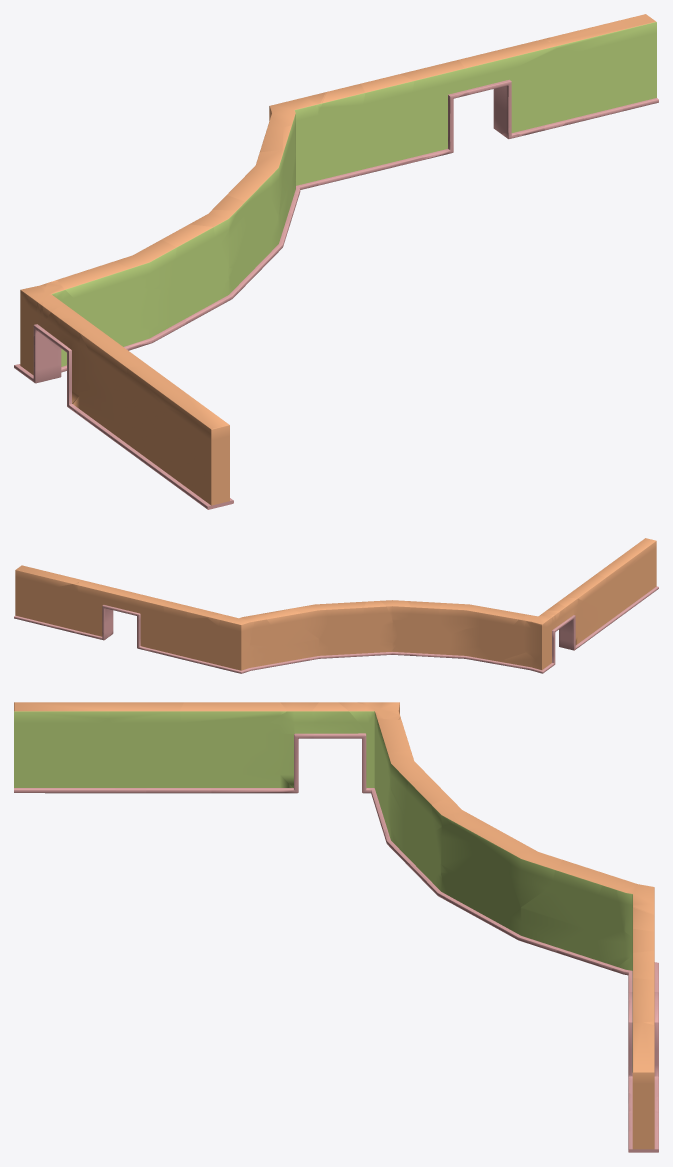
The model's file is InnerWall_3_Fractured.fbx.
3 renders of one model, top to bottom at view 1: azimuth 30°, elevation 25°; view 2: azimuth 150°, elevation 25°; view 3: azimuth 270°, elevation 25°, orthographic. The views are drawn at different scales.
Visible parts, largest first — view 1: polySurface219, polySurface236, polySurface259, polySurface237, polySurface208, polySurface206, polySurface220, polySurface254, polySurface248, polySurface256, polySurface247, polySurface223 (+25 smaller); view 2: polySurface219, polySurface236, polySurface270, polySurface221, polySurface241, polySurface246, polySurface257, polySurface240, polySurface259, polySurface206, polySurface220, polySurface226 (+35 smaller); view 3: polySurface236, polySurface208, polySurface261, polySurface237, polySurface262, polySurface251, polySurface220, polySurface221, polySurface238, polySurface253, polySurface209, polySurface270 (+14 smaller).
Part boxes in pixels (left/top/right/bottom): polySurface219: left=459, top=39, right=557, bottom=128; polySurface236: left=54, top=317, right=115, bottom=439; polySurface259: left=305, top=125, right=385, bottom=185; polySurface237: left=164, top=390, right=229, bottom=479; polySurface208: left=161, top=409, right=233, bottom=509; polySurface206: left=550, top=14, right=656, bottom=59; polySurface220: left=15, top=301, right=94, bottom=383; polySurface254: left=358, top=74, right=414, bottom=144; polySurface248: left=575, top=53, right=637, bottom=119; polySurface256: left=126, top=286, right=174, bottom=344; polySurface247: left=400, top=60, right=467, bottom=115; polySurface223: left=57, top=261, right=130, bottom=310; polySurface219: left=77, top=580, right=135, bottom=633; polySurface236: left=557, top=597, right=601, bottom=650; polySurface270: left=328, top=623, right=380, bottom=658; polySurface221: left=326, top=601, right=365, bottom=646; polySurface241: left=216, top=615, right=254, bottom=653; polySurface246: left=412, top=624, right=451, bottom=657; polySurface257: left=33, top=582, right=81, bottom=620; polySurface240: left=438, top=603, right=482, bottom=633; polySurface259: left=182, top=636, right=224, bottom=667; polySurface206: left=15, top=565, right=80, bottom=591; polySurface220: left=504, top=603, right=566, bottom=672; polySurface226: left=520, top=621, right=557, bottom=666; polySurface236: left=211, top=702, right=318, bottom=793; polySurface208: left=14, top=719, right=115, bottom=793; polySurface261: left=180, top=702, right=286, bottom=753; polySurface237: left=14, top=702, right=109, bottom=757; polySurface262: left=146, top=734, right=216, bottom=793; polySurface251: left=505, top=885, right=586, bottom=951; polySurface220: left=312, top=702, right=381, bottom=809; polySurface221: left=468, top=826, right=528, bottom=915; polySurface238: left=109, top=702, right=183, bottom=743; polySurface253: left=507, top=846, right=562, bottom=917; polySurface209: left=112, top=724, right=152, bottom=793; polySurface270: left=450, top=864, right=508, bottom=933.
Bounding box in the file's own units: 40.29 × 4.06 × 29.51.
